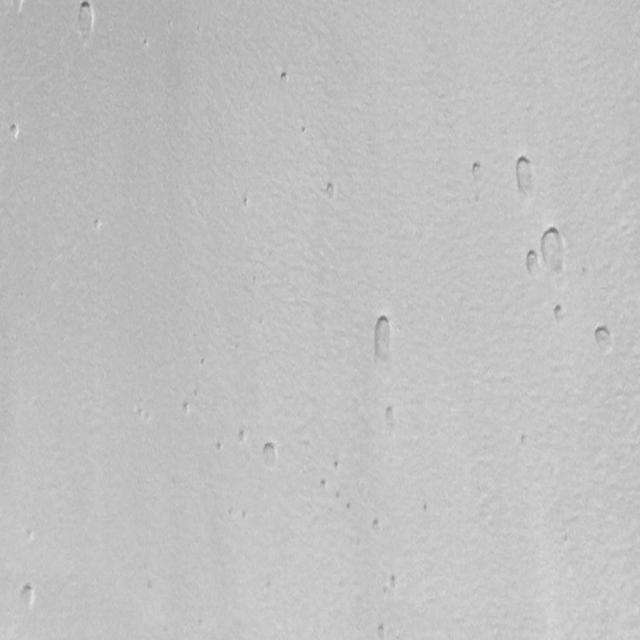pin holes: (538, 225, 570, 282), (372, 310, 400, 364), (513, 151, 539, 195), (71, 0, 95, 38), (594, 322, 616, 351), (259, 440, 280, 470), (18, 583, 40, 610), (524, 250, 542, 279), (320, 180, 340, 204), (468, 160, 487, 184), (382, 403, 400, 428), (551, 301, 568, 325), (386, 571, 401, 594), (8, 122, 24, 143), (370, 516, 384, 536), (277, 68, 292, 86), (235, 429, 249, 446), (376, 622, 388, 640), (316, 477, 329, 493), (91, 218, 104, 234), (298, 122, 311, 138), (182, 401, 194, 417), (215, 440, 228, 454), (419, 501, 431, 516), (241, 194, 252, 210), (332, 459, 344, 473), (344, 501, 354, 516), (240, 507, 250, 522), (140, 39, 150, 53), (198, 357, 208, 371)
